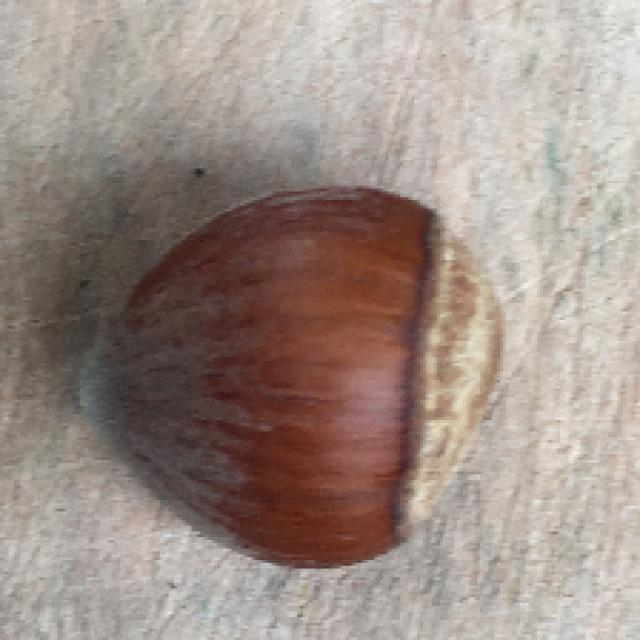qualityHazelnut: (73, 185, 521, 568)
